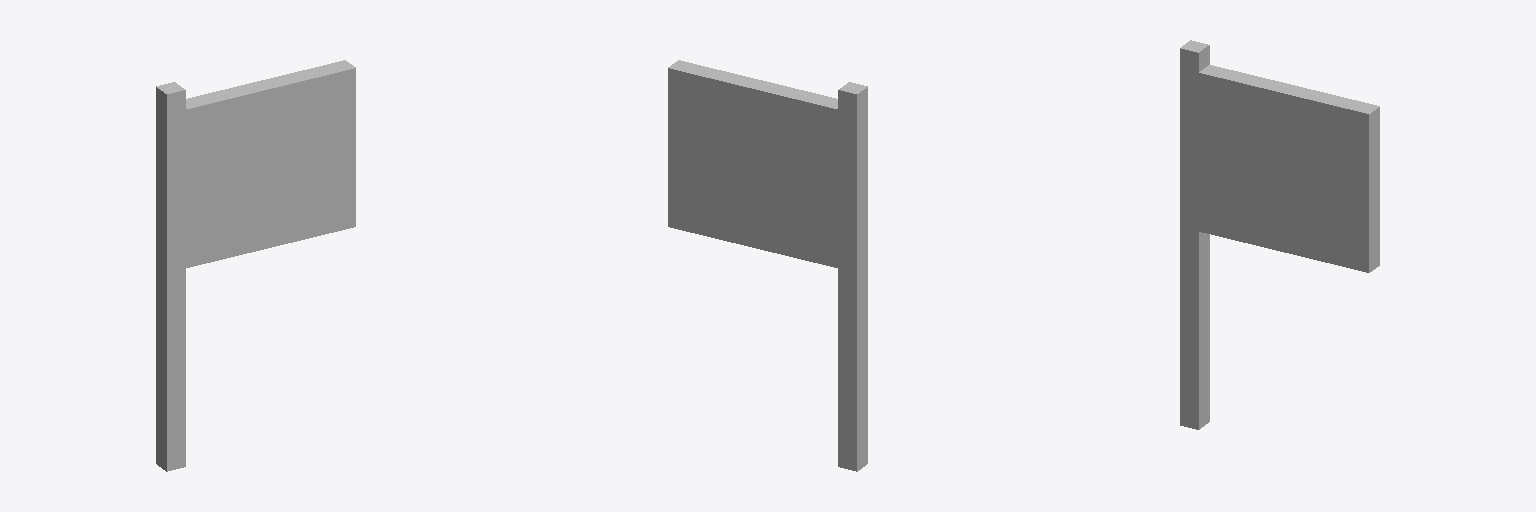
The model's file is aave flag.vox.obj.
The picture shows the model from 3 angles: view 1: azimuth 30°, elevation 25°; view 2: azimuth 150°, elevation 25°; view 3: azimuth 330°, elevation 25°; orthographic projection.
Visible parts, largest first — view 1: object 1; view 2: object 1; view 3: object 1.
Part boxes in pixels (x1,y1,x2,y2): object 1: (156, 60, 355, 471); object 1: (668, 60, 867, 471); object 1: (1180, 40, 1379, 429).
Bounding box in the file's own units: 1 × 1.9 × 0.1.